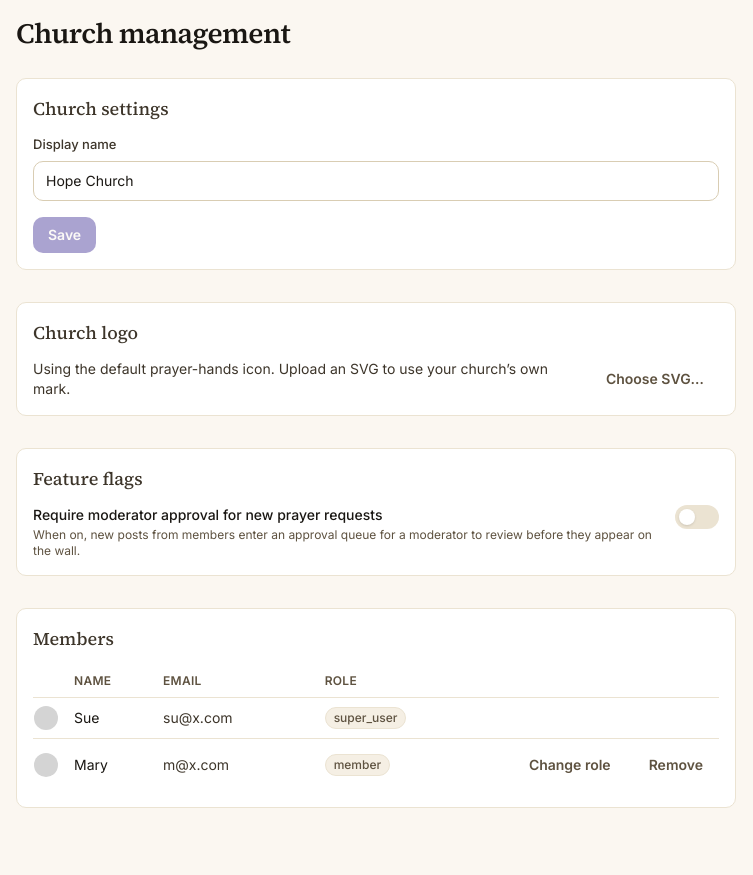
Scenario: AdminChurchPage › Feature flags section › on generic error, shows a generic message without link
Click the switch named "require moderator approval": (697, 516) 675,504 -> 719,528
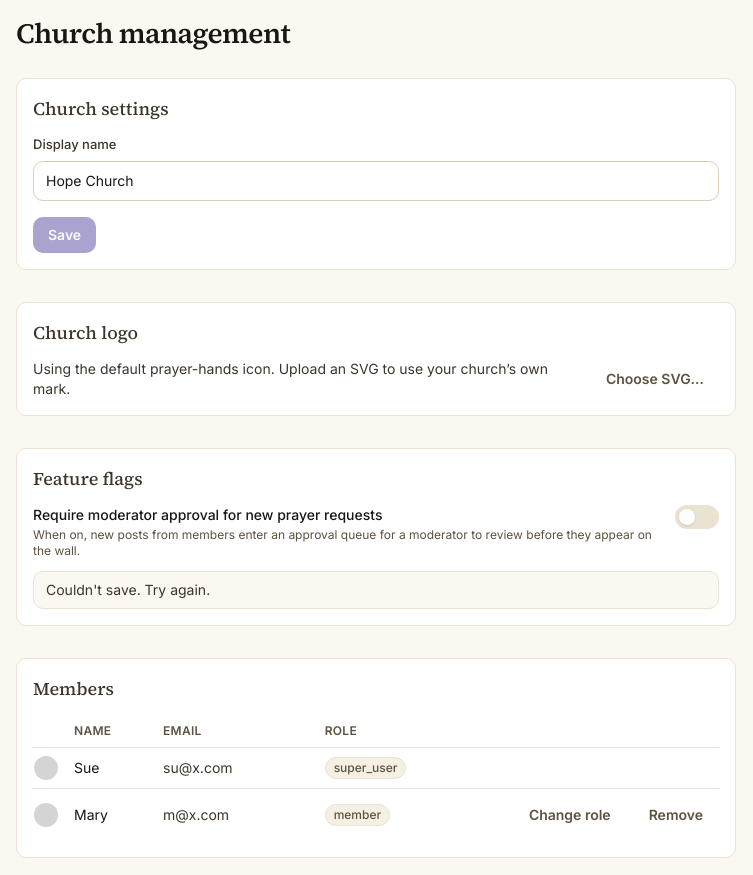
Expected: the message "Couldn't save. Try again." is shown, 33,570 -> 719,608
Expected: the message shows "Couldn't save", 46,580 -> 210,598
